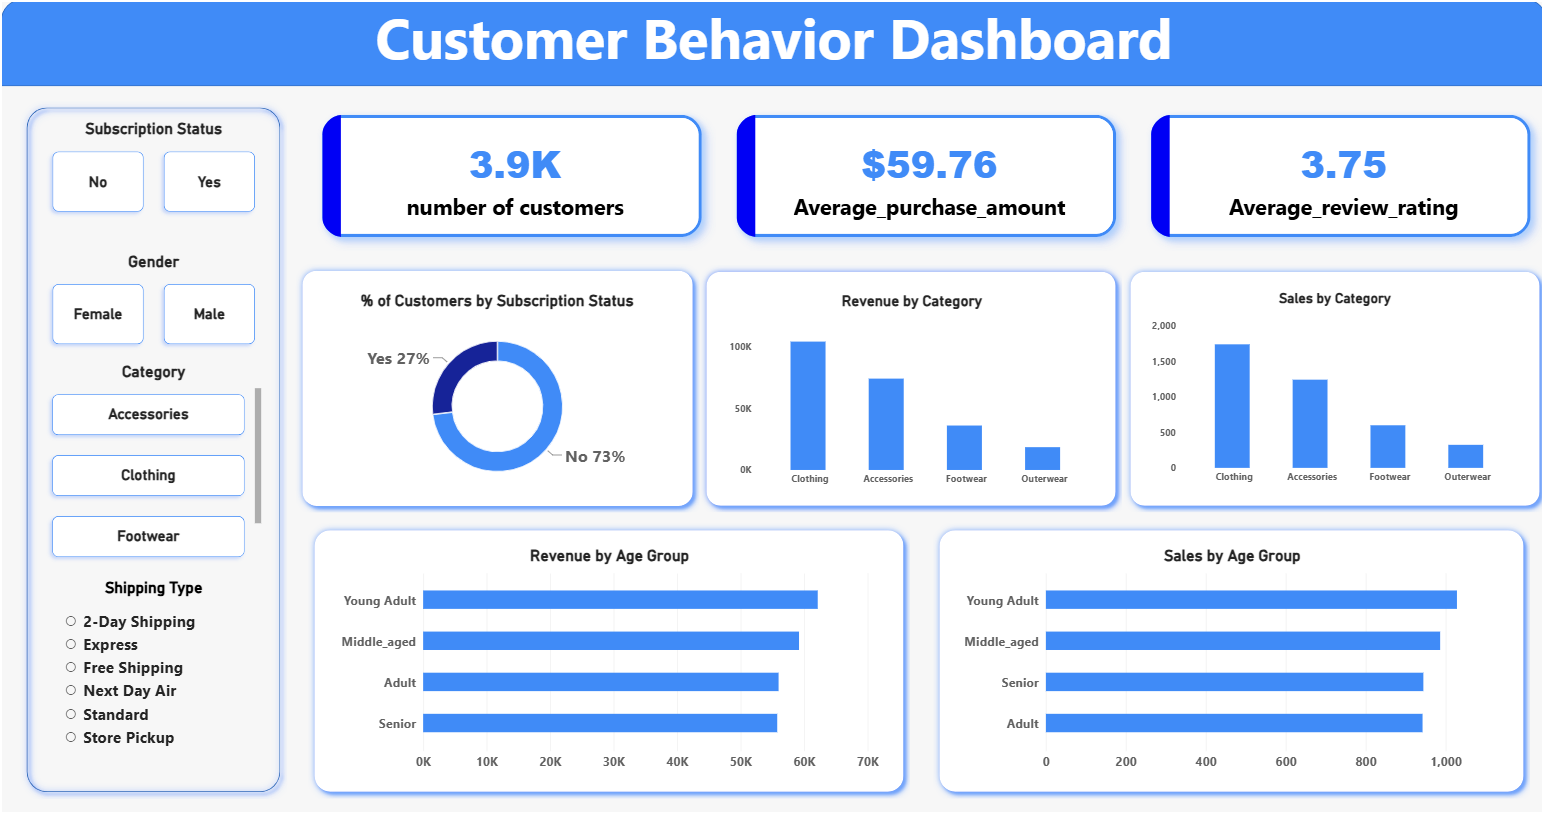

What the dashboard file says about the page in this screenshot:
{"tool":"powerbi","page":{"name":"Page 1","canvas":[2000,1080],"ordinal":0},"visuals":[{"type":"cardVisual","fields":{"Data":["shopping_behavior mytable.number of customers","shopping_behavior mytable.Average_purchase_amount","shopping_behavior mytable.Average_review_rating"]},"box":[397.7,130.9,1602,195.6],"z":0},{"type":"shape","box":[1206,679,772.7,355.6],"z":0,"group":"g5"},{"type":"shape","box":[0,0,1999.7,113.2],"z":1000,"group":"g7"},{"type":"group","id":"g1","title":"Group 1","box":[381.5,342.7,522.2,321.7],"z":1000},{"type":"clusteredBarChart","title":"Sales by Age Group","fields":{"Category":["shopping_behavior mytable.age_group"],"Y":["CountNonNull(shopping_behavior mytable.customer_id)"]},"box":[1228.6,695.2,729.1,323.3],"z":1000,"group":"g5"},{"type":"textbox","box":[0,0,1999.7,113.2],"z":2000,"group":"g7"},{"type":"group","id":"g2","title":"Group 2","box":[903.7,344.3,546.4,320.1],"z":2000},{"type":"shape","box":[24.2,130.9,346,903.7],"z":3000,"group":"g6"},{"type":"shape","box":[381.5,342.7,522.2,321.7],"z":3000,"group":"g1"},{"type":"group","id":"g3","title":"Group 3","box":[1453.3,344.3,546.4,320.1],"z":3000},{"type":"advancedSlicerVisual","title":"Subscription Status","fields":{"Values":["shopping_behavior mytable.subscription_status"]},"box":[58.1,155.1,278.1,127.7],"z":4000,"group":"g6"},{"type":"donutChart","title":"% of Customers by Subscription Status","fields":{"Category":["shopping_behavior mytable.subscription_status"],"Y":["CountNonNull(shopping_behavior mytable.customer_id)"]},"box":[397.7,364.5,489.7,288.2],"z":4000,"group":"g1"},{"type":"group","id":"g4","title":"Group 4","box":[397.7,679,779.2,355.6],"z":4000},{"type":"advancedSlicerVisual","title":"Gender","fields":{"Values":["shopping_behavior mytable.gender"]},"box":[58.1,326.5,278.1,127.7],"z":5000,"group":"g6"},{"type":"shape","box":[903.7,344.3,546.4,320.1],"z":5000,"group":"g2"},{"type":"group","id":"g5","title":"Group 5","box":[1206,679,772.7,355.6],"z":5000},{"type":"group","id":"g6","title":"Group 6","box":[24.2,130.9,346,903.7],"z":6000},{"type":"shape","box":[1453.3,344.3,546.4,320.1],"z":6000,"group":"g3"},{"type":"advancedSlicerVisual","title":"Category","fields":{"Values":["shopping_behavior mytable.category"]},"box":[58.1,468.8,278.1,263.5],"z":6000,"group":"g6"},{"type":"group","id":"g7","title":"Group 7","box":[0,0,1999.7,113.2],"z":7000},{"type":"clusteredColumnChart","title":"Revenue by Category","fields":{"Category":["shopping_behavior mytable.category"],"Y":["Sum(shopping_behavior mytable.purchase_amount)"]},"box":[924.7,366.1,506,284.9],"z":7000,"group":"g2"},{"type":"listSlicer","title":"Shipping Type","fields":{"Values":["shopping_behavior mytable.shipping_type"]},"box":[58.1,735.5,278,273.2],"z":7000,"group":"g6"},{"type":"clusteredColumnChart","title":"Sales by Category","fields":{"Category":["shopping_behavior mytable.category"],"Y":["CountNonNull(shopping_behavior mytable.customer_id)"]},"box":[1472.7,362.7,506,284.9],"z":8000,"group":"g3"},{"type":"shape","box":[397.7,679,779.2,355.6],"z":8000,"group":"g4"},{"type":"clusteredBarChart","title":"Revenue by Age Group","fields":{"Category":["shopping_behavior mytable.age_group"],"Y":["Sum(shopping_behavior mytable.purchase_amount)"]},"box":[423.6,695.2,729.1,323.3],"z":9000,"group":"g4"}]}

Visuals, with their boxes in screenshot pixels (x1, y1, x2, y2), scaled from the page's 2000x1080 canvas onto the 1544x814 screenshot:
cardVisual - shopping_behavior mytable.number of customers x shopping_behavior mytable.Average_purchase_amount: locate(307, 99, 1543, 246)
shape: locate(931, 512, 1528, 780)
shape: locate(0, 0, 1543, 85)
"Group 1" group: locate(295, 258, 698, 501)
"Sales by Age Group" clusteredBarChart: locate(948, 524, 1511, 768)
textbox: locate(0, 0, 1543, 85)
"Group 2" group: locate(698, 260, 1119, 501)
shape: locate(19, 99, 286, 780)
shape: locate(295, 258, 698, 501)
"Group 3" group: locate(1122, 260, 1543, 501)
"Subscription Status" advancedSlicerVisual: locate(45, 117, 260, 213)
"% of Customers by Subscription Status" donutChart: locate(307, 275, 685, 492)
"Group 4" group: locate(307, 512, 909, 780)
"Gender" advancedSlicerVisual: locate(45, 246, 260, 342)
shape: locate(698, 260, 1119, 501)
"Group 5" group: locate(931, 512, 1528, 780)
"Group 6" group: locate(19, 99, 286, 780)
shape: locate(1122, 260, 1543, 501)
"Category" advancedSlicerVisual: locate(45, 353, 260, 552)
"Group 7" group: locate(0, 0, 1543, 85)
"Revenue by Category" clusteredColumnChart: locate(714, 276, 1105, 491)
"Shipping Type" listSlicer: locate(45, 554, 259, 760)
"Sales by Category" clusteredColumnChart: locate(1137, 273, 1528, 488)
shape: locate(307, 512, 909, 780)
"Revenue by Age Group" clusteredBarChart: locate(327, 524, 890, 768)
